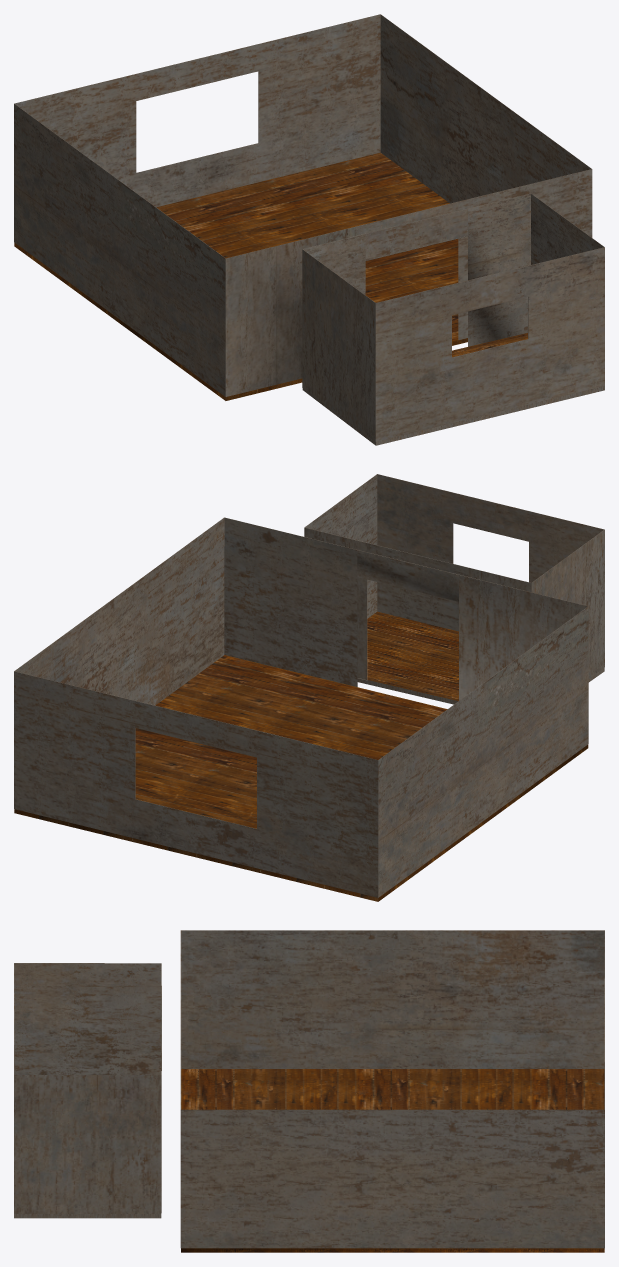
The model's file is flor.fbx.
3 views of the same model, one above another, from view 1: azimuth 30°, elevation 25°; view 2: azimuth 150°, elevation 25°; view 3: azimuth 270°, elevation 25° (orthographic).
Parts seen in each view (by area): view 1: Plane, Plane.002; view 2: Plane, Plane.002; view 3: Plane, Plane.002.
Boxes of the visible parts, bbox=[...] form: Plane: bbox=[14, 14, 604, 441]; Plane.002: bbox=[14, 152, 604, 445]; Plane: bbox=[14, 474, 604, 897]; Plane.002: bbox=[14, 611, 604, 901]; Plane: bbox=[14, 930, 604, 1248]; Plane.002: bbox=[14, 1069, 604, 1252].
Bounding box in the file's own units: 800 × 298 × 1115.
